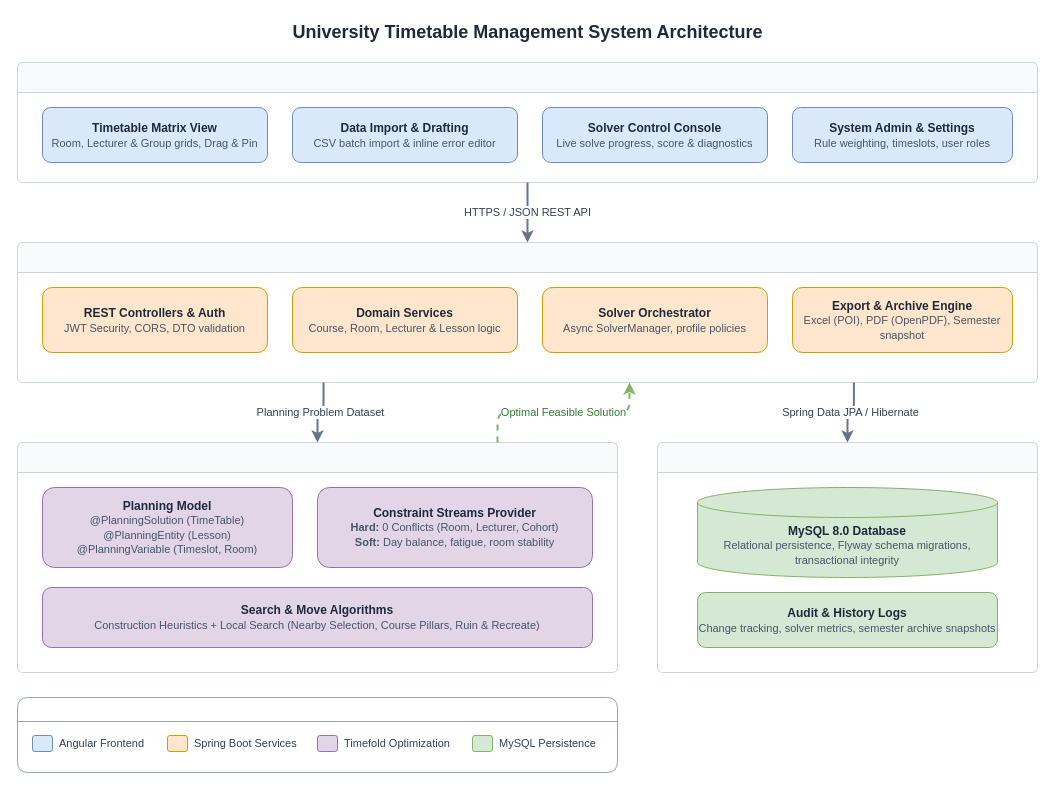
This 1055x790 diagram has some shape labels left out. Here are the shapes that lost their labels. From the top down, the box of each, then its label:
(16, 62, 1038, 182): Frontend Layer (Angular 17 SPA)
(16, 242, 1038, 382): Backend Application Layer (Spring Boot 3.5 and Java 17)
(16, 442, 618, 672): Optimization Engine Layer (Timefold Solver)
(656, 442, 1038, 672): Data and Persistence Layer
(16, 696, 618, 772): Architecture Layers
